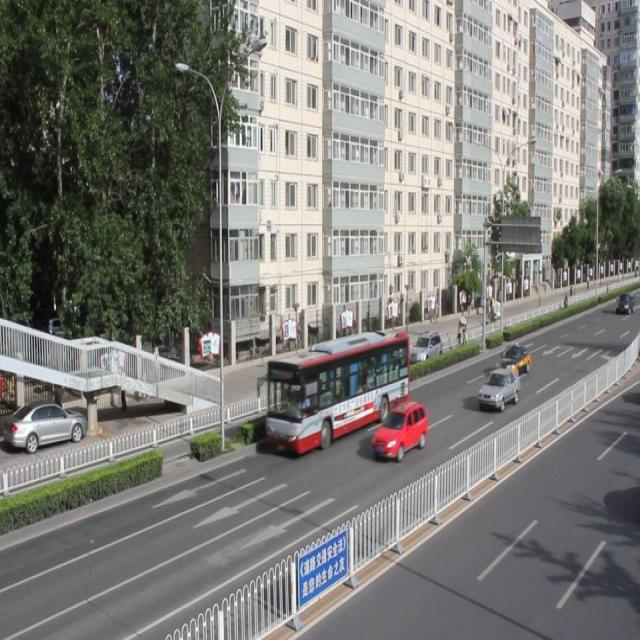car: (371, 401, 427, 458), (476, 364, 517, 410), (493, 342, 529, 376), (408, 330, 442, 365)
van: (267, 331, 409, 452)
